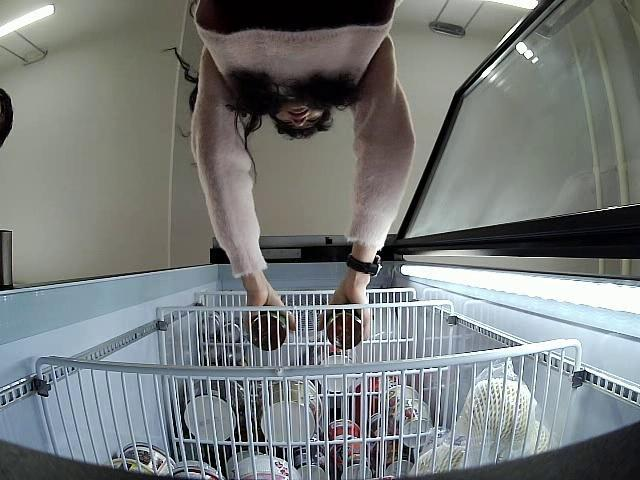19_17cha: (324, 308, 365, 352), (253, 312, 291, 346)
